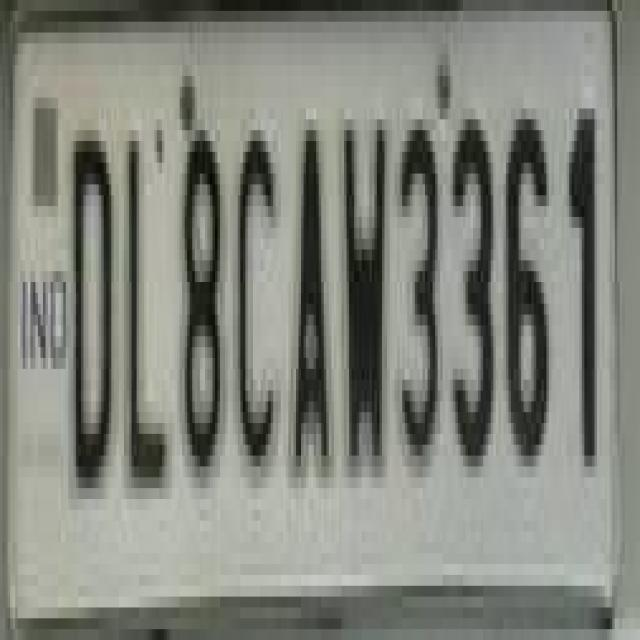license_plate: (5, 0, 602, 629)
